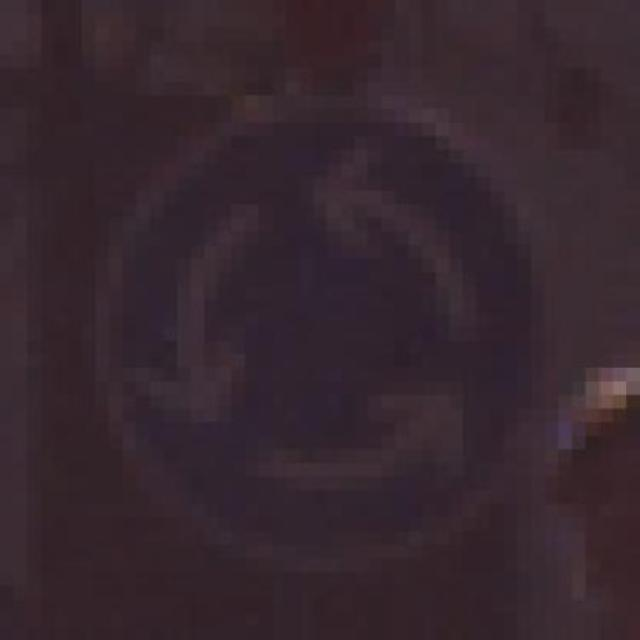Round-About: (68, 82, 586, 572)
